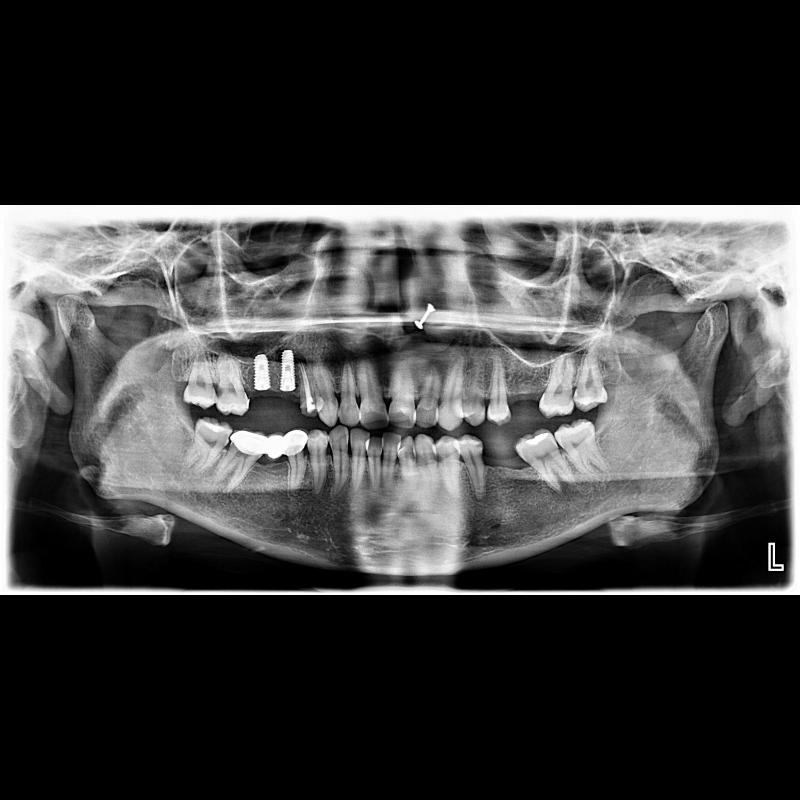osstem: (275, 350, 301, 392), (253, 354, 279, 392)
